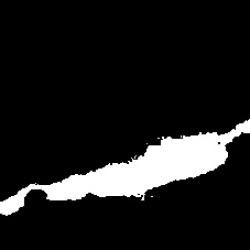crack: (2, 120, 247, 218)
